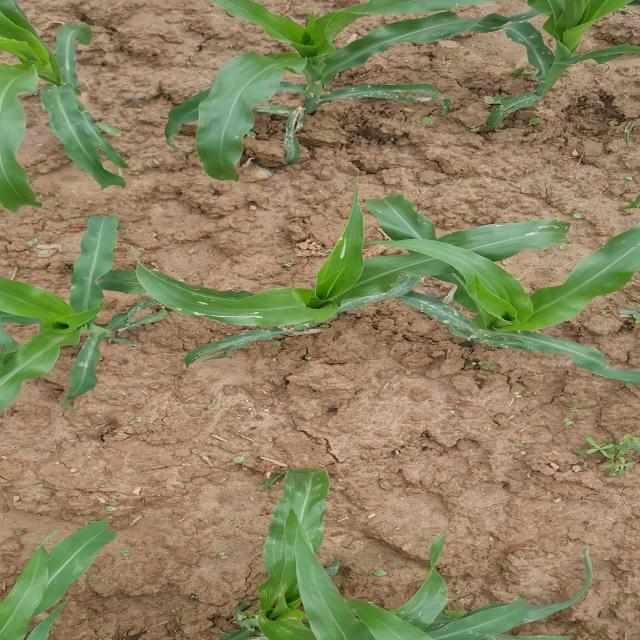maize: (12, 3, 634, 165), (15, 225, 640, 372), (18, 493, 545, 640)
